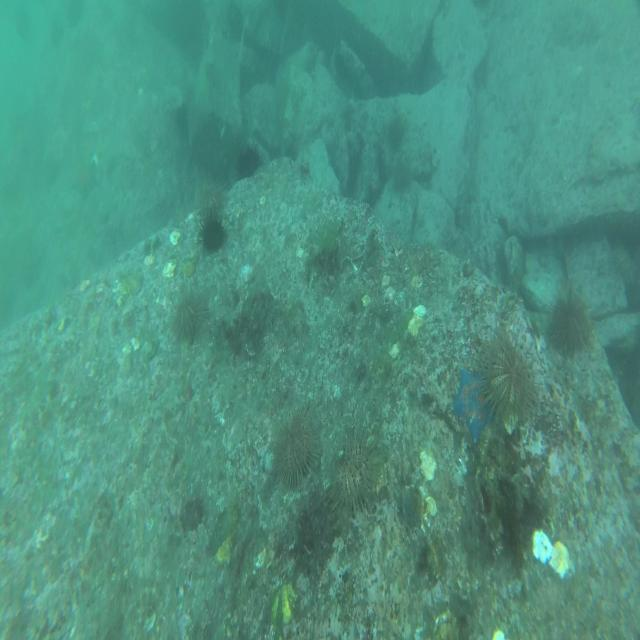echinus: (331, 428, 381, 515), (487, 335, 532, 414), (270, 417, 316, 490), (550, 290, 593, 356), (173, 287, 203, 339), (197, 215, 228, 249), (233, 146, 261, 178), (387, 161, 415, 188), (387, 116, 408, 149)
scallop: (265, 582, 303, 626)
starfish: (455, 364, 493, 446)
